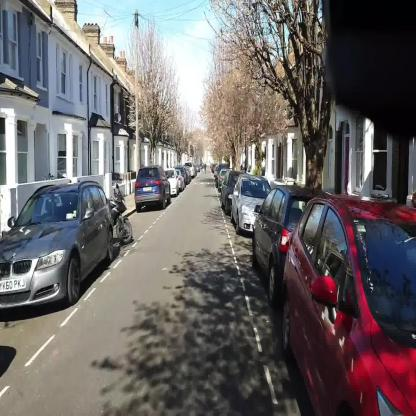car: (282, 196, 415, 415), (0, 183, 114, 314), (252, 186, 330, 304), (230, 174, 274, 238), (135, 166, 171, 213), (220, 172, 243, 215), (166, 168, 179, 196)
motorcycle: (108, 183, 133, 247)
